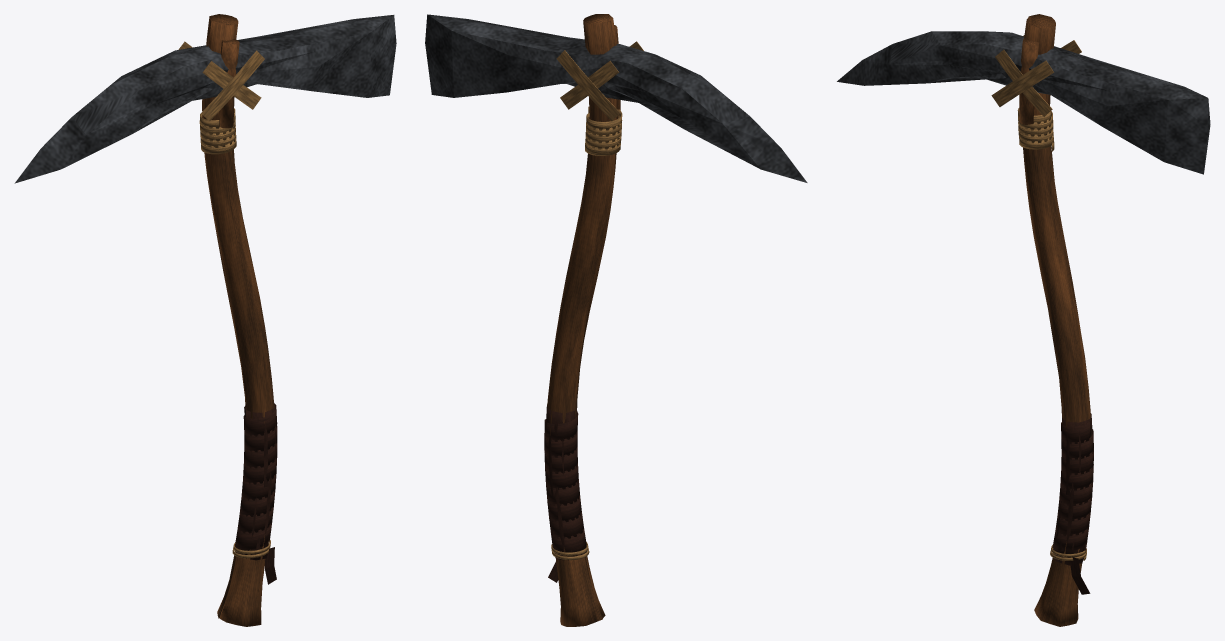
The model's file is stone_pickaxe_lod1.glb.
The picture shows the model from 3 angles, left to right: view 1: azimuth 30°, elevation 25°; view 2: azimuth 150°, elevation 25°; view 3: azimuth 330°, elevation 25°; orthographic projection. The views are drawn at different scales.
Visible parts, largest first — view 1: stone_pickaxe_stone.001, stone_pickaxe_wood.001, stone_pickaxe_leather.001, stone_pickaxe_fiber.001; view 2: stone_pickaxe_stone.001, stone_pickaxe_wood.001, stone_pickaxe_leather.001, stone_pickaxe_fiber.001; view 3: stone_pickaxe_stone.001, stone_pickaxe_wood.001, stone_pickaxe_leather.001, stone_pickaxe_fiber.001.
Boxes of the visible parts, x1=… form: stone_pickaxe_stone.001: x1=14, y1=15, x2=396, y2=183; stone_pickaxe_wood.001: x1=202, y1=14, x2=274, y2=626; stone_pickaxe_leather.001: x1=235, y1=403, x2=277, y2=584; stone_pickaxe_fiber.001: x1=178, y1=41, x2=270, y2=558; stone_pickaxe_stone.001: x1=425, y1=14, x2=807, y2=182; stone_pickaxe_wood.001: x1=547, y1=14, x2=620, y2=626; stone_pickaxe_leather.001: x1=544, y1=404, x2=586, y2=582; stone_pickaxe_fiber.001: x1=551, y1=41, x2=643, y2=560; stone_pickaxe_stone.001: x1=837, y1=31, x2=1210, y2=174; stone_pickaxe_wood.001: x1=1019, y1=14, x2=1090, y2=626; stone_pickaxe_leather.001: x1=1052, y1=413, x2=1093, y2=594; stone_pickaxe_fiber.001: x1=991, y1=35, x2=1086, y2=560.
Size of the model in its own units: 0.6485 by 0.9902 by 0.0909.
4 materials, 4 textured.
